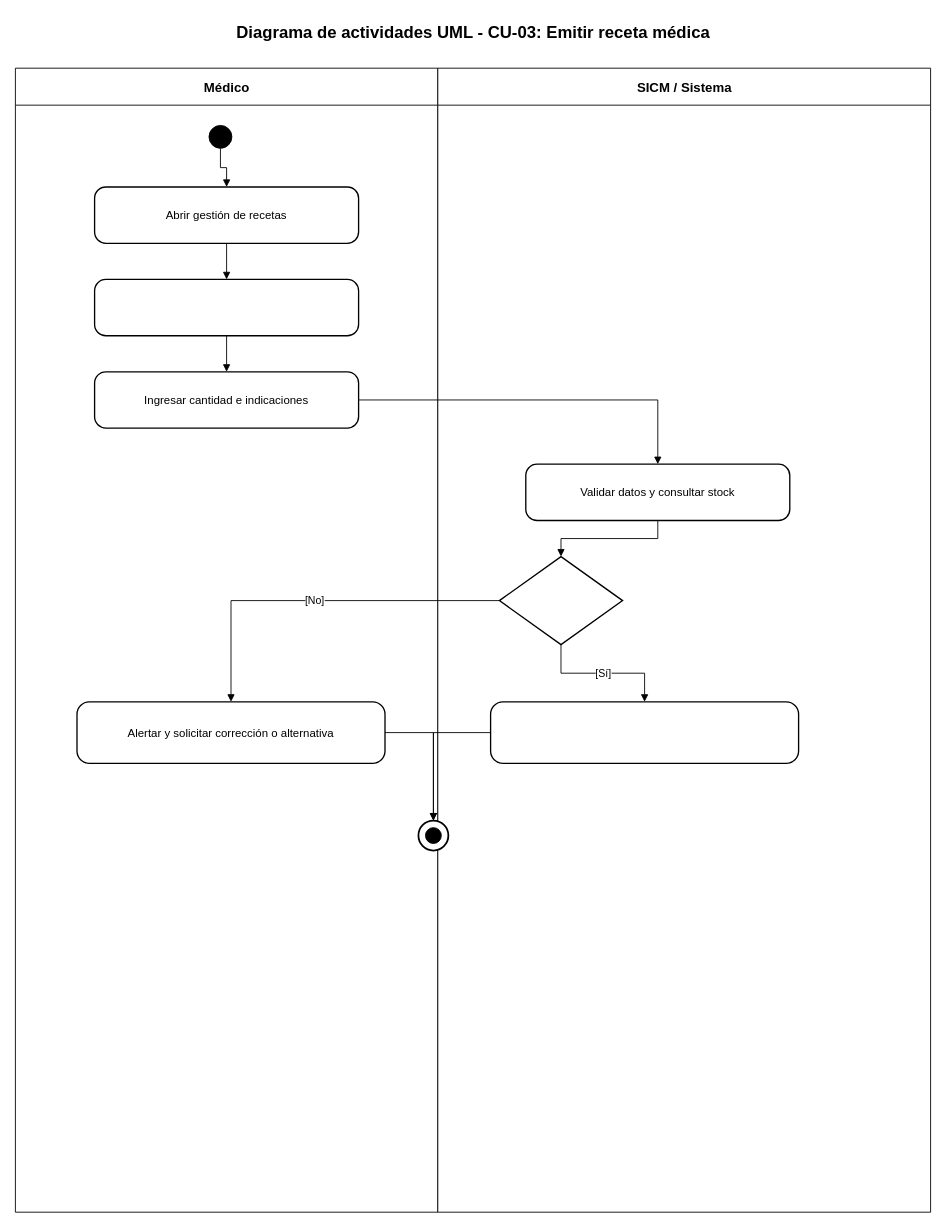
Some shapes in this 946 by 1228 pixel diagram are drawn without their labels. The box of each missing label's shape, as (x1, y1, x2, y2) in pixels:
Registrar receta en el historial: (490, 701, 799, 764)
Seleccionar medicamento: (94, 278, 359, 336)
¿Datos válidos y stock suficiente?: (498, 556, 623, 645)
